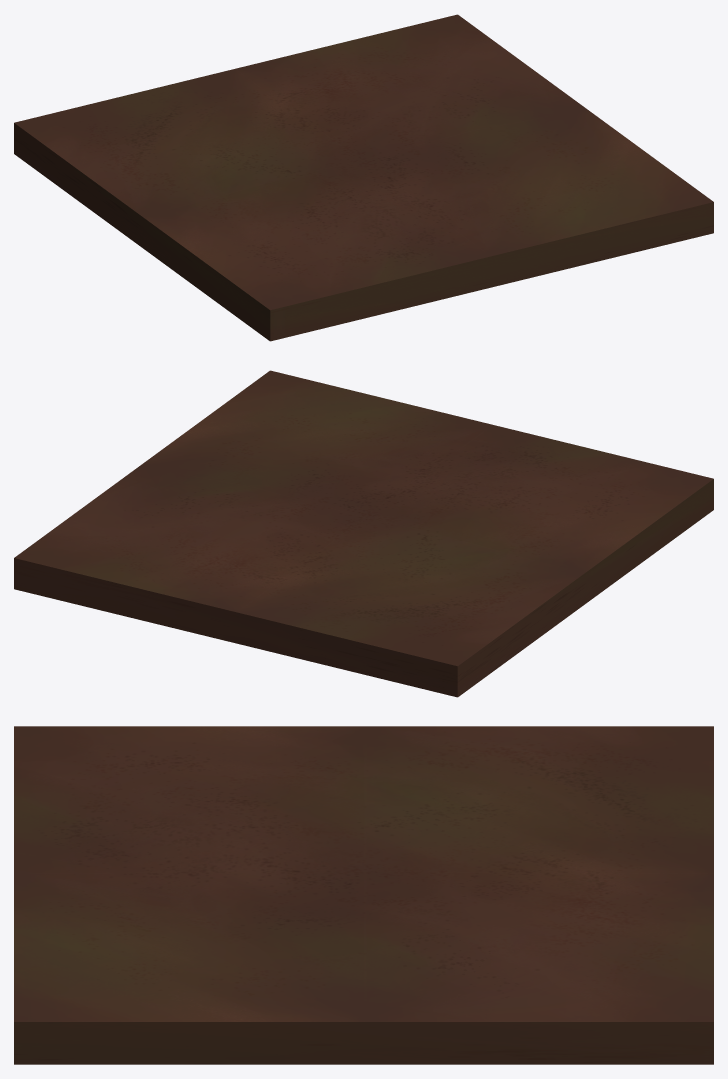
The model's file is dirtfloor2.fbx.
The picture shows the model from 3 angles, top to bottom: view 1: azimuth 30°, elevation 25°; view 2: azimuth 150°, elevation 25°; view 3: azimuth 270°, elevation 25°; orthographic projection. The views are drawn at different scales.
Parts seen in each view (by area): view 1: dirtfloor2; view 2: dirtfloor2; view 3: dirtfloor2.
Boxes of the visible parts, x1=… form: dirtfloor2: x1=14, y1=14, x2=713, y2=341; dirtfloor2: x1=14, y1=370, x2=713, y2=697; dirtfloor2: x1=14, y1=726, x2=713, y2=1064.
Size of the model in its own units: 161 by 13.94 by 161.
1 material, 1 textured.
